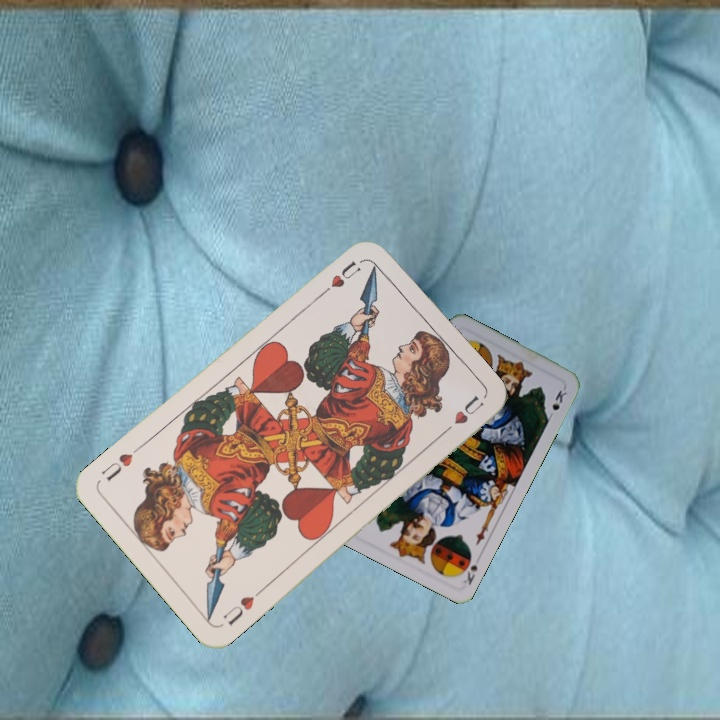HU: (219, 584, 265, 628), (317, 256, 363, 298)
SK: (459, 551, 484, 588)
